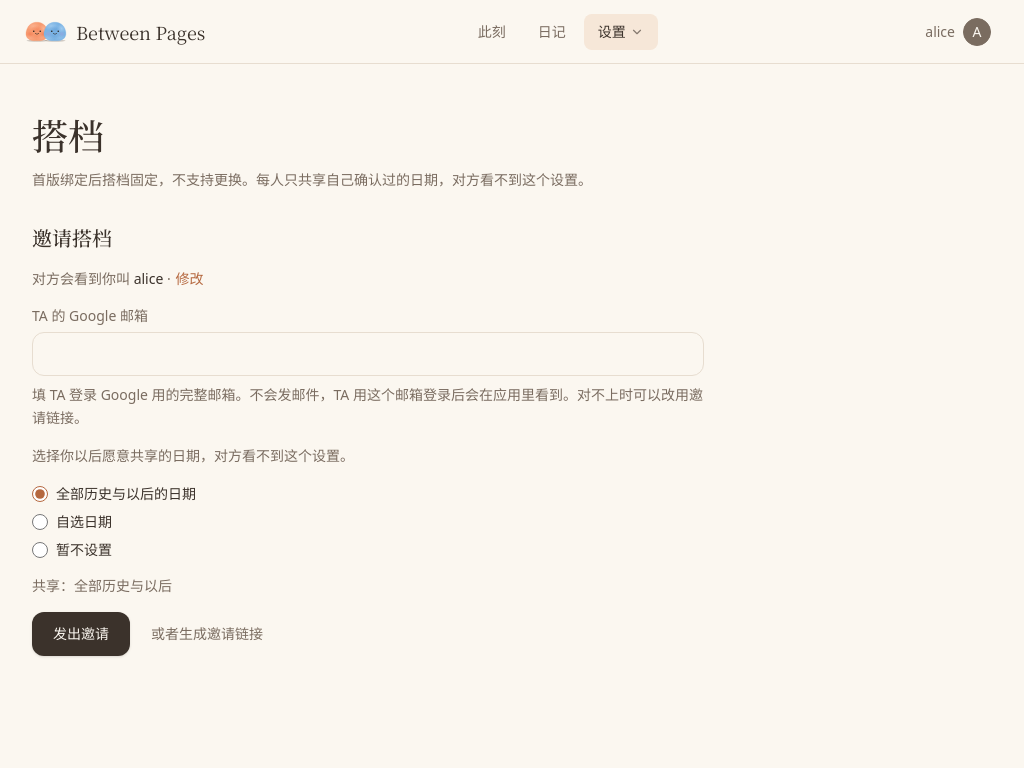
Test case: RelationshipPanel › creates an invitation with the chosen range and shows its link once
The image size is (1024, 768).
Expected: the heading "搭档" is shown, [32, 112, 104, 157]
Click the button "或者生成邀请链接": [207, 634] box [150, 623, 264, 645]
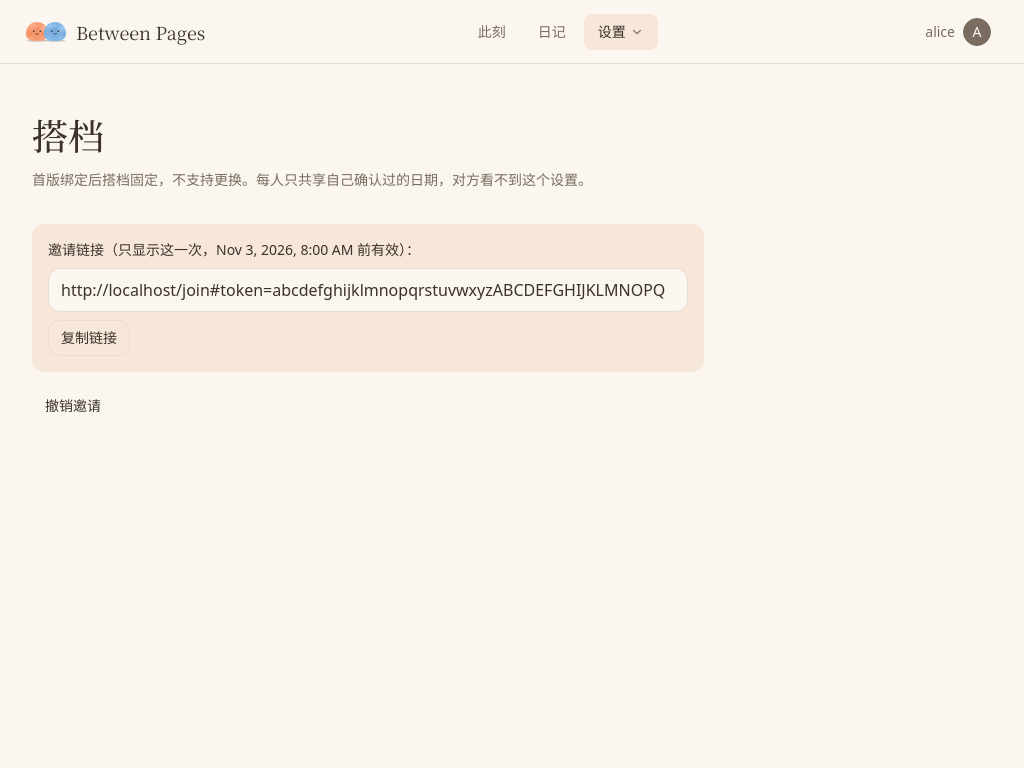
Now the button "撤销邀请" is shown, box [32, 388, 114, 424]
